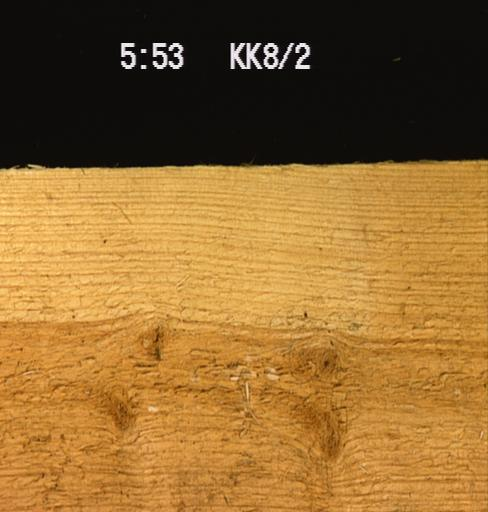sound_knot: (295, 392, 355, 461), (94, 387, 139, 431), (136, 323, 166, 367), (315, 343, 338, 376)
